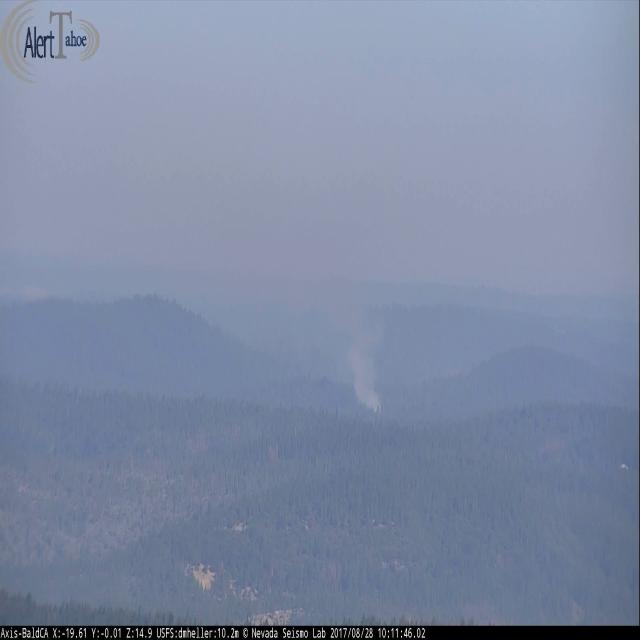smoke: (340, 293, 390, 413)
